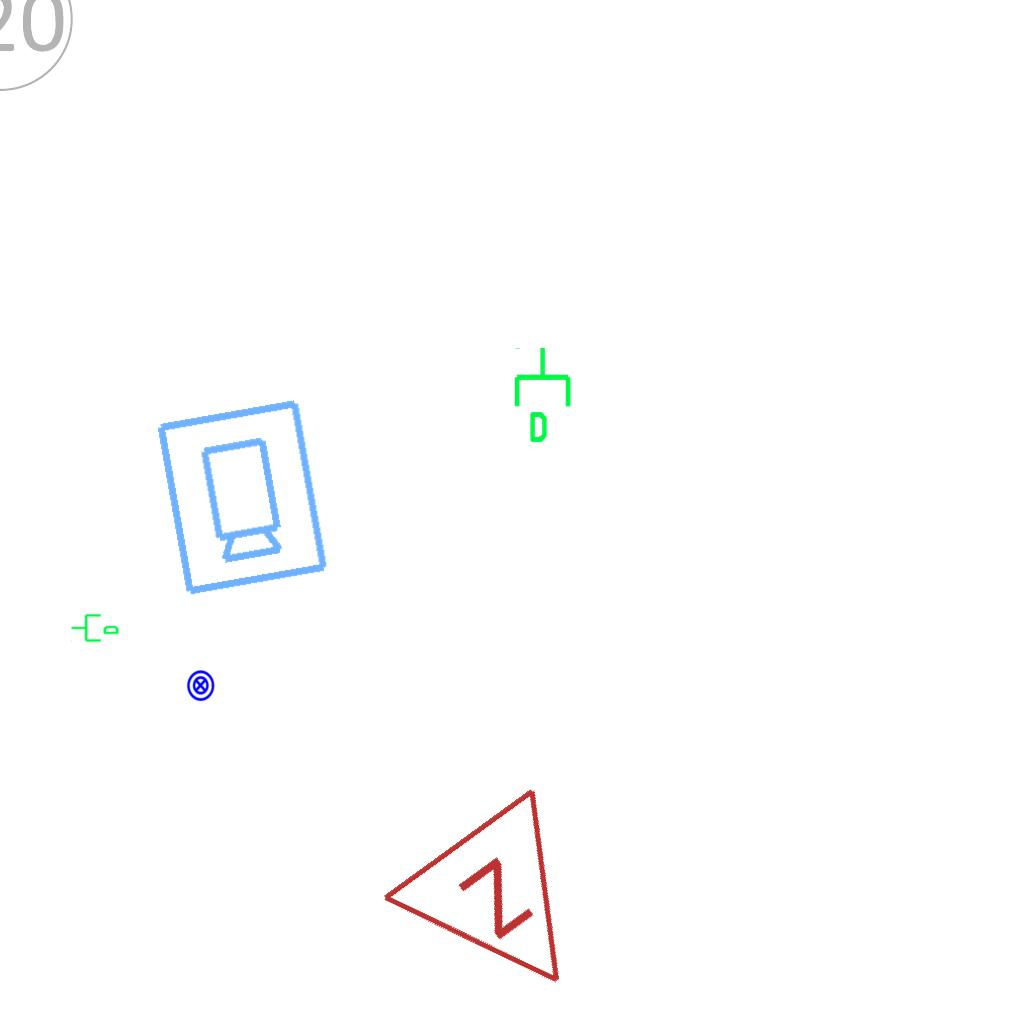Datenanschluss_einfach: (510, 345, 579, 445), (70, 610, 120, 644)
KFO_Kamera_mit_Festobjektiv: (149, 394, 333, 600)
Taster_beleuchtet: (184, 669, 217, 702)
Zimmersignalleuchte: (370, 771, 648, 1024)
